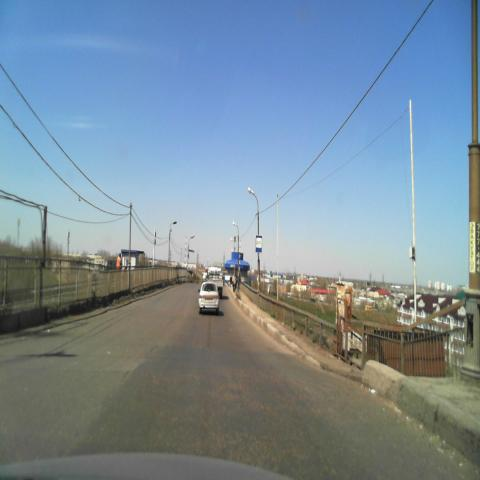7_12: (255, 234, 262, 252)
